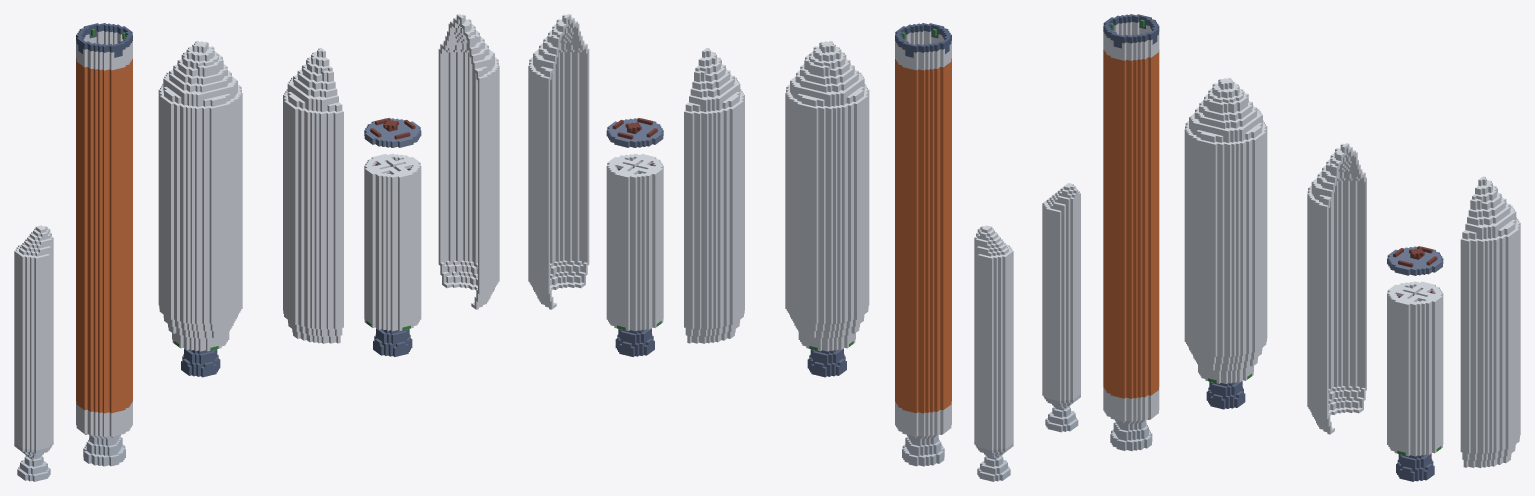
The model's file is Sun_V_all_parts.obj.
3 views of the same model, side by side, from view 1: azimuth 30°, elevation 25°; view 2: azimuth 150°, elevation 25°; view 3: azimuth 330°, elevation 25° (orthographic).
Bounding box in the file's own units: 16.8 × 14.3 × 2.5.
Materials: 1 (1 with a texture image).
